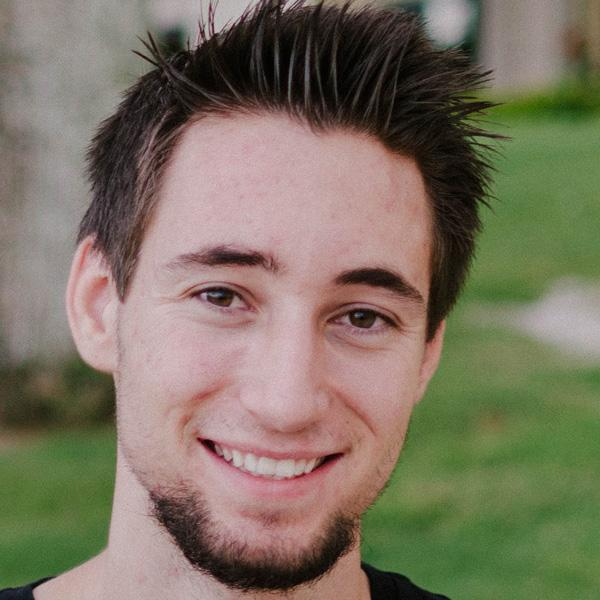Eyes: (321, 296, 404, 345), (179, 276, 262, 321)
